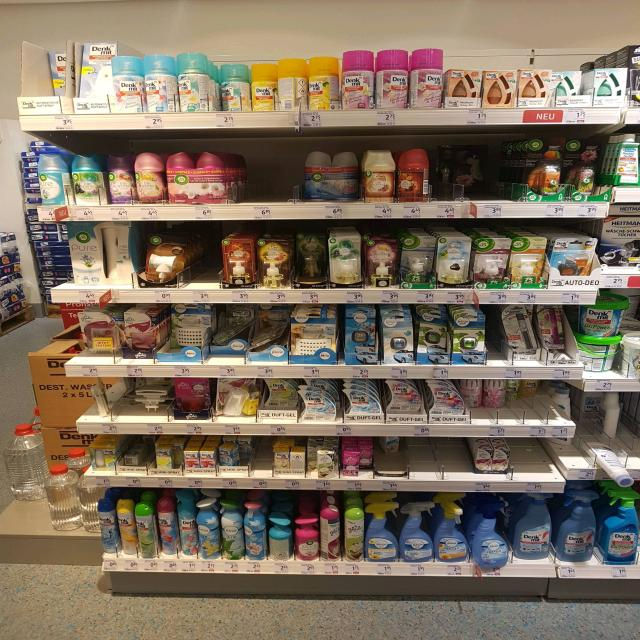void: (488, 127, 528, 220), (408, 437, 471, 492), (516, 437, 562, 495), (231, 149, 265, 224), (185, 228, 217, 306), (274, 142, 304, 224)
